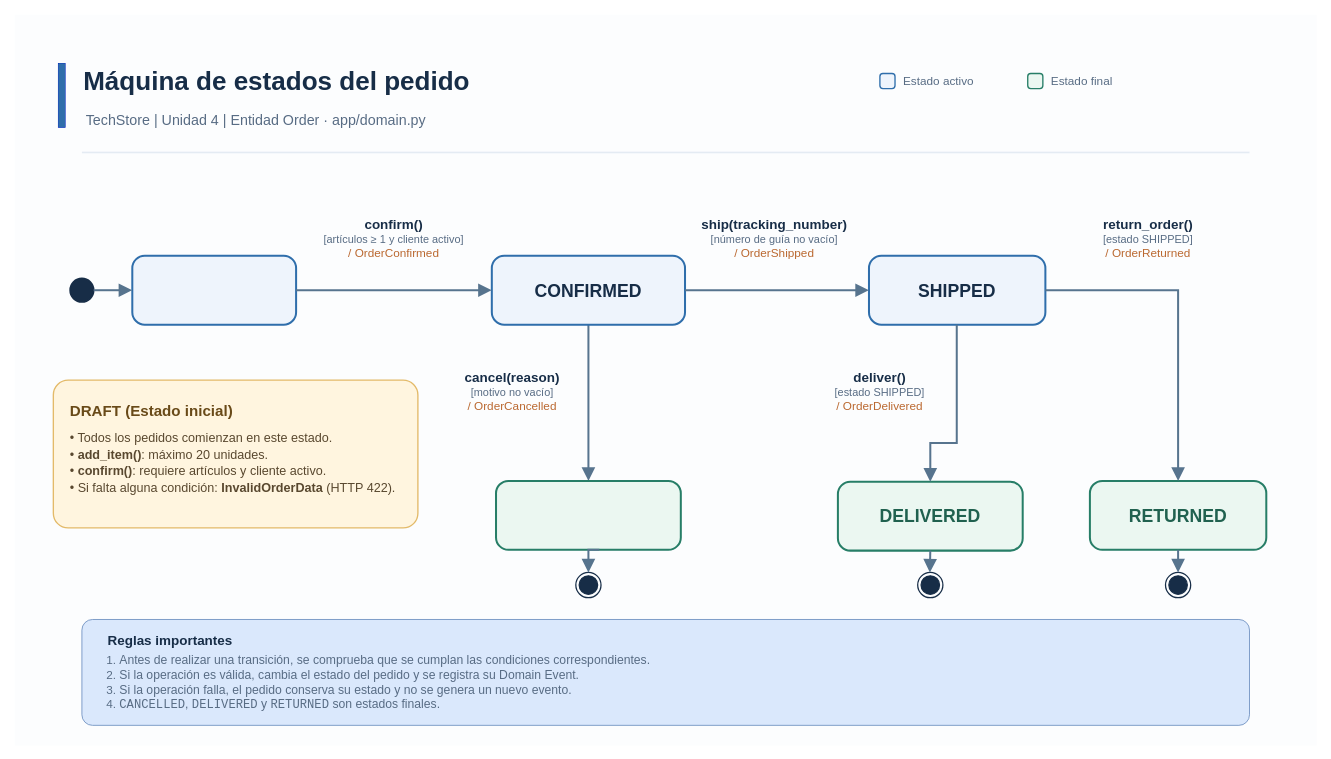
The diagram is 1331 pixels wide and 759 high, and some of its shapes have lost their labels. Here are the shapes that lost their labels. From the top down, the centre of each, then its label:
point 214,289: DRAFT
point 588,514: CANCELLED
